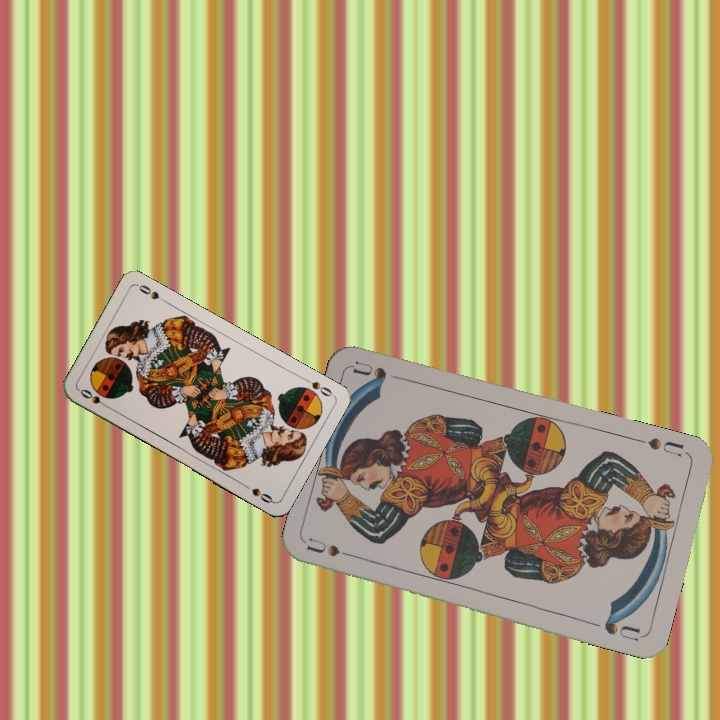SO: (75, 385, 112, 411), (298, 373, 335, 399)
SU: (304, 534, 363, 562), (633, 433, 687, 460)
